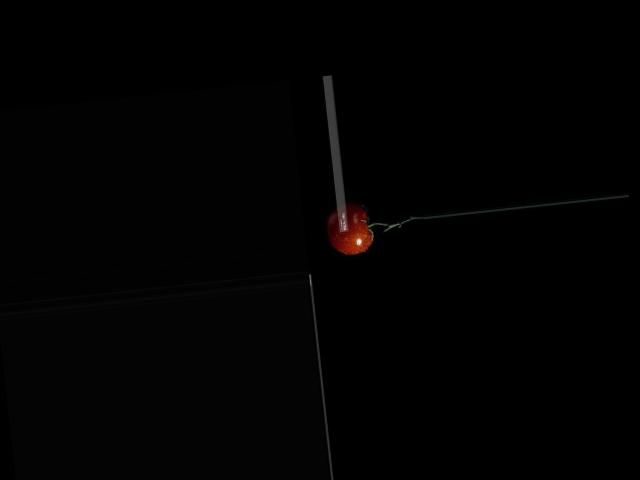tomato: (326, 202, 373, 256)
